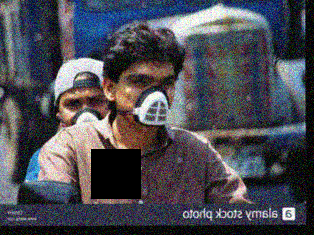with_mask: (115, 69, 176, 129), (59, 89, 107, 127)
